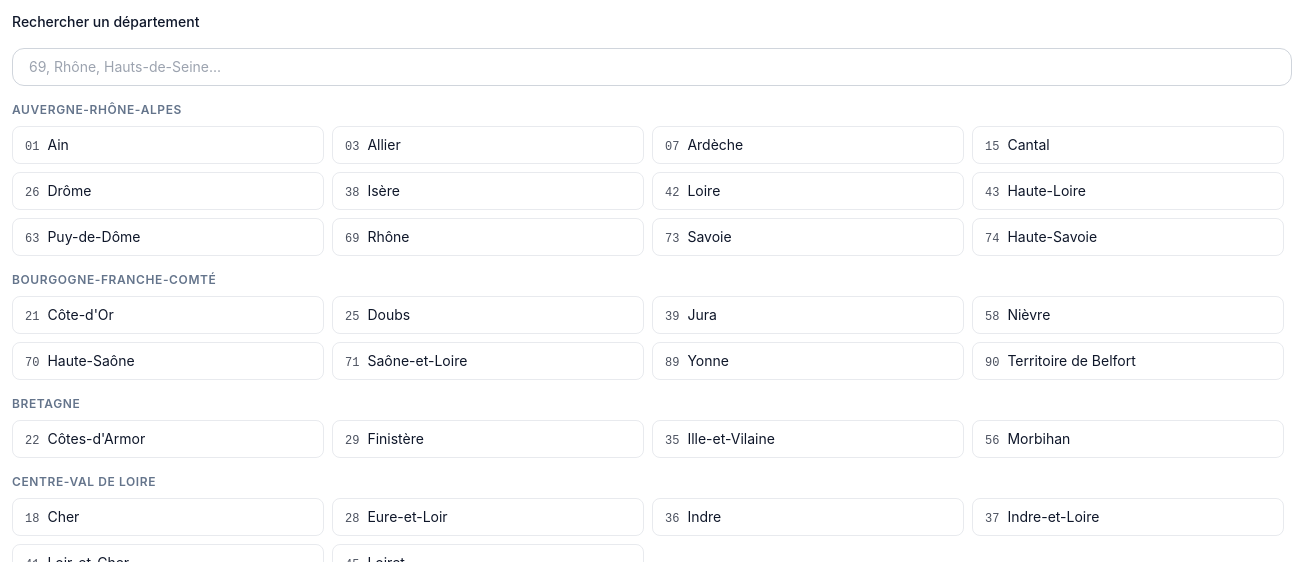
Test: DepartmentPicker › shows an empty-state message when nothing matches
Type "zzzz" into the field labelled "Rechercher un département" at x=652, y=67, box [12,48,1292,86]
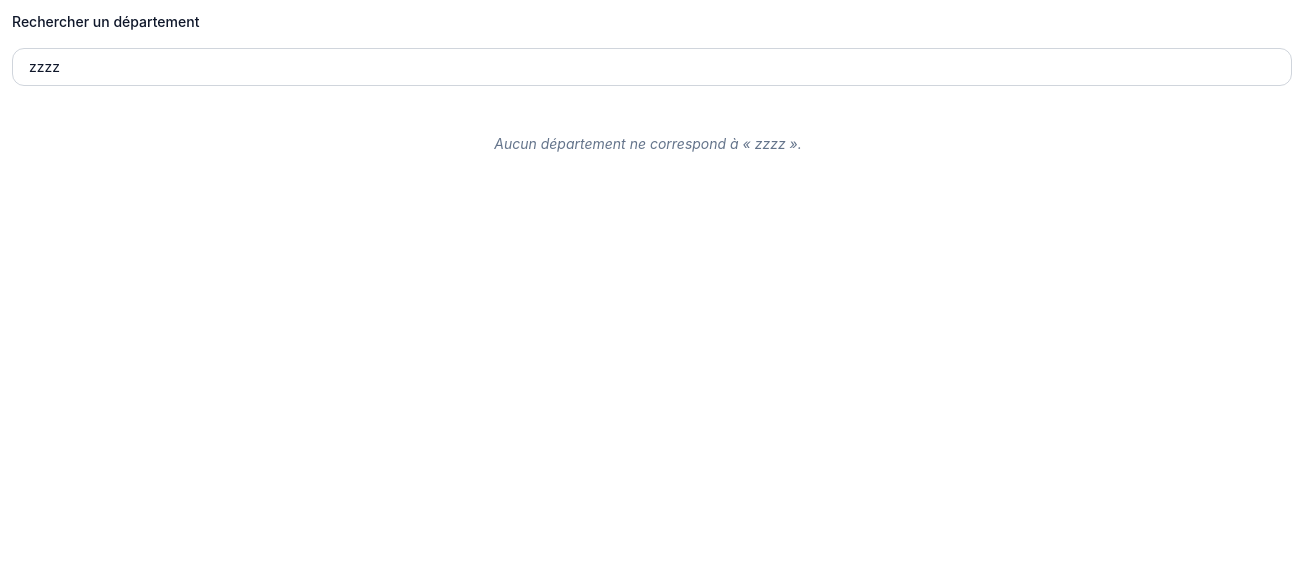
Expected: the text "Aucun département ne correspond à « zzzz »." is shown, [494,135,802,152]
